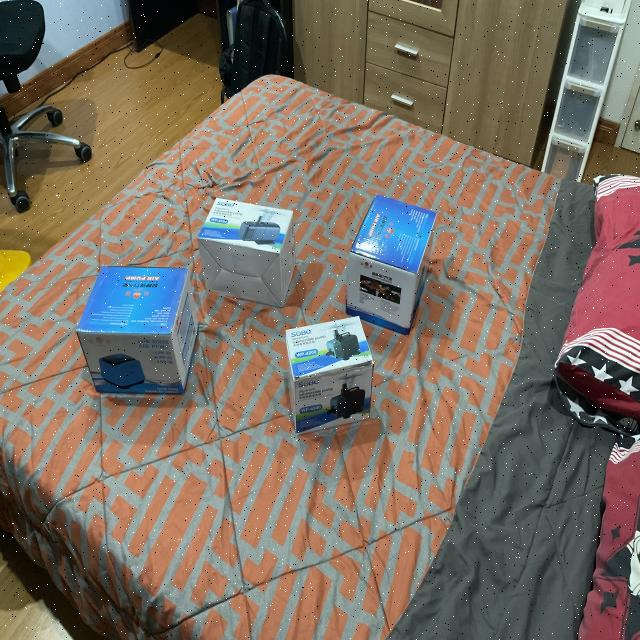SOBO_WP_4200: (194, 178, 306, 302), (282, 316, 392, 441)
YAMANO_LPP_20: (74, 248, 202, 402), (343, 176, 444, 336)
